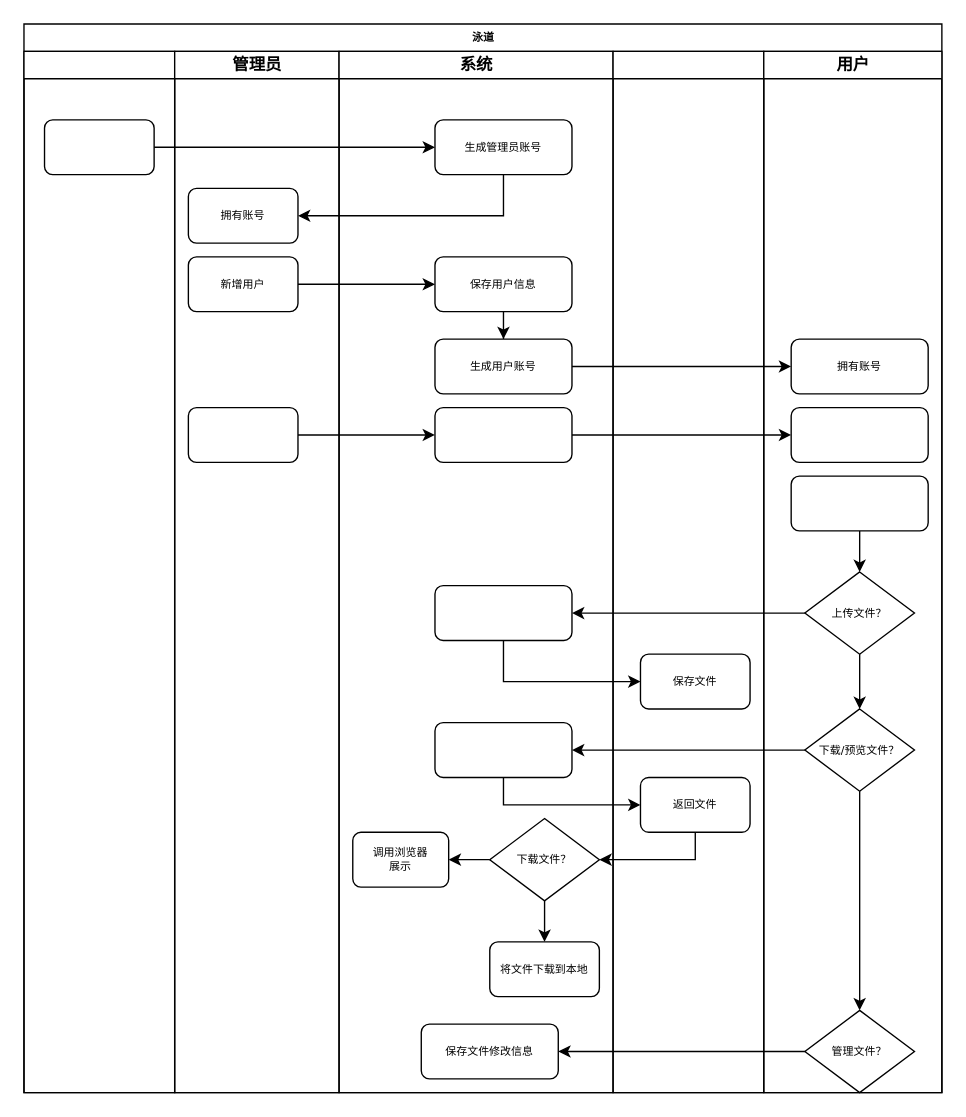
Image size: 966x1117. Some labels were removed from this diagram. The box of each missing label's shape, as (x1, y1, x2, y2) in pixels:
保存变动信息: (434, 406, 572, 462)
保存文件信息: (434, 584, 572, 640)
公司: (23, 50, 175, 1093)
服务器: (612, 50, 764, 1093)
权限变动: (790, 406, 928, 462)
注册公司: (43, 119, 154, 175)
用户权限控制: (187, 406, 298, 462)
申请文件操作: (790, 475, 928, 531)
获取文件: (434, 721, 572, 777)
